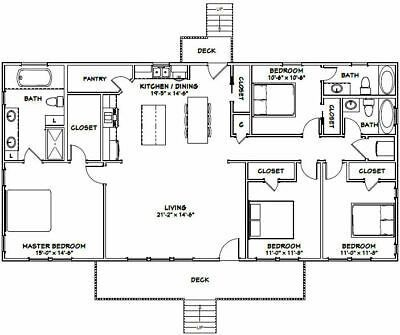door: (212, 233, 245, 263), (67, 140, 89, 169), (342, 113, 362, 140), (207, 59, 230, 82), (108, 72, 134, 92), (22, 145, 42, 168), (301, 116, 320, 140), (300, 162, 320, 184), (265, 174, 284, 193), (320, 64, 341, 80), (361, 177, 377, 194)
room: (102, 164, 247, 259), (233, 61, 397, 138), (136, 68, 230, 165), (246, 165, 328, 267), (318, 164, 396, 261), (3, 67, 67, 165), (65, 97, 107, 165), (67, 62, 138, 95)
wall: (62, 66, 72, 162), (320, 90, 397, 101), (99, 185, 110, 258), (229, 155, 302, 166), (70, 254, 127, 265), (393, 66, 398, 187), (300, 58, 354, 69), (246, 130, 306, 139), (227, 60, 282, 69), (343, 158, 397, 167), (65, 90, 119, 98), (320, 162, 324, 262), (98, 95, 103, 164), (1, 106, 7, 162), (338, 99, 347, 135), (48, 62, 152, 65), (359, 130, 398, 138), (367, 59, 397, 69), (1, 61, 10, 93), (228, 95, 234, 139), (277, 175, 300, 186), (319, 129, 346, 138), (299, 257, 329, 265), (293, 158, 302, 183), (319, 83, 328, 108), (41, 158, 69, 166), (343, 163, 354, 183), (246, 176, 268, 186), (231, 109, 252, 119), (88, 159, 121, 165), (3, 186, 7, 233), (172, 63, 206, 68), (2, 257, 30, 263), (348, 176, 364, 186), (377, 176, 396, 184), (6, 157, 24, 165), (130, 62, 136, 82)
window: (242, 161, 252, 259), (129, 257, 192, 264), (31, 257, 71, 268), (333, 254, 370, 263), (22, 59, 50, 68), (1, 234, 9, 252), (1, 167, 9, 184), (2, 92, 8, 104), (395, 110, 400, 123), (394, 244, 399, 253)
